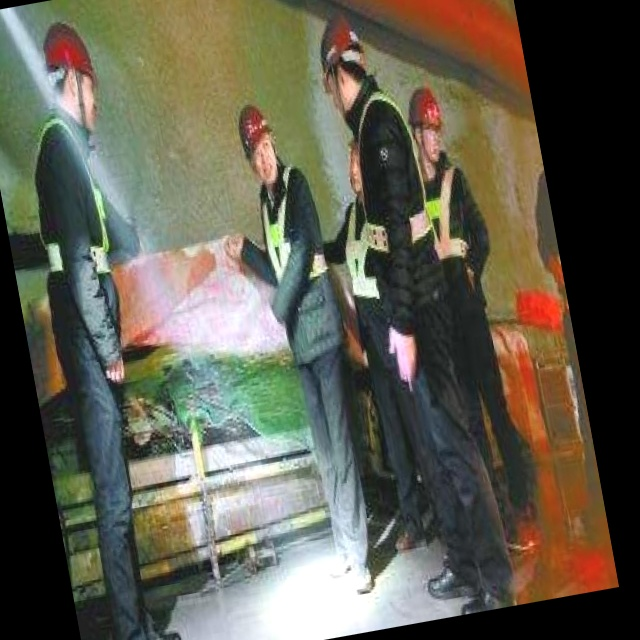Con_Casco: (315, 14, 376, 115)
Con_Chaleco: (24, 109, 121, 296), (257, 165, 337, 313)
